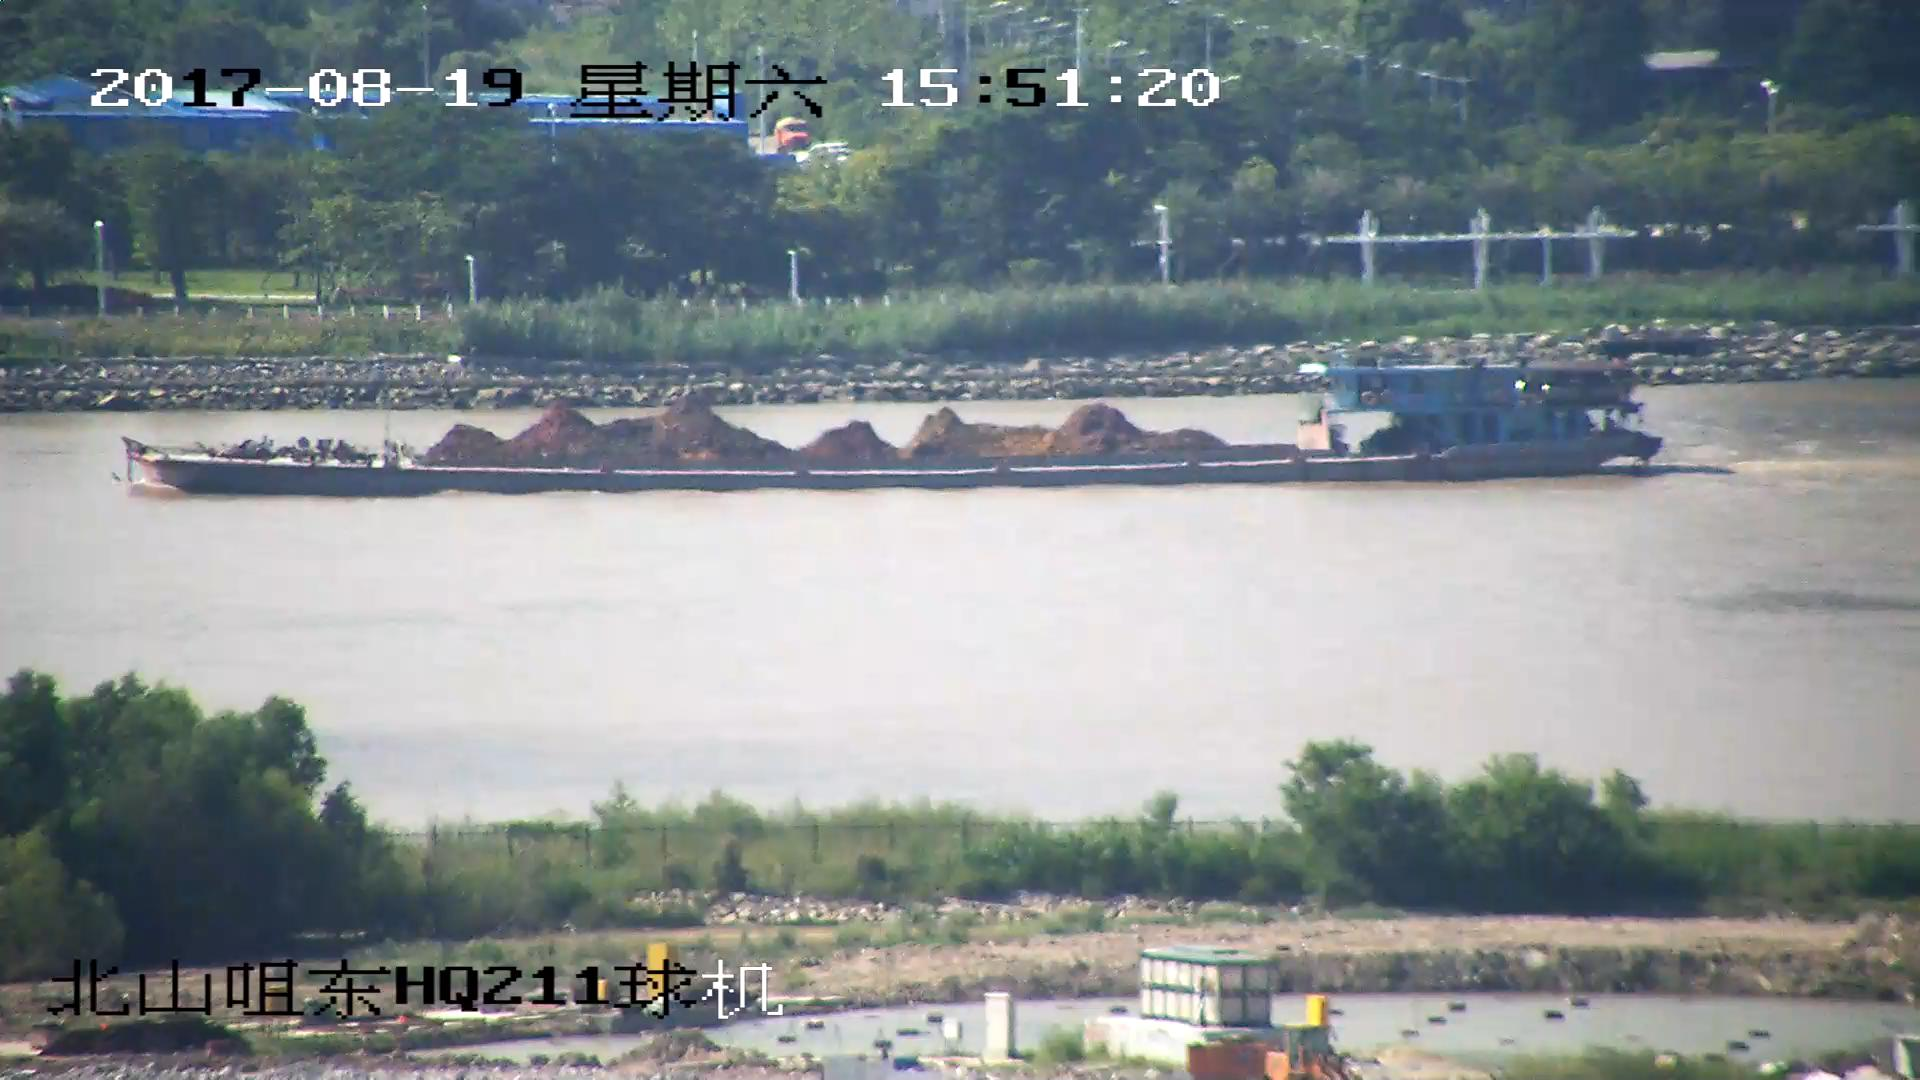ore carrier: (110, 362, 1664, 500)
